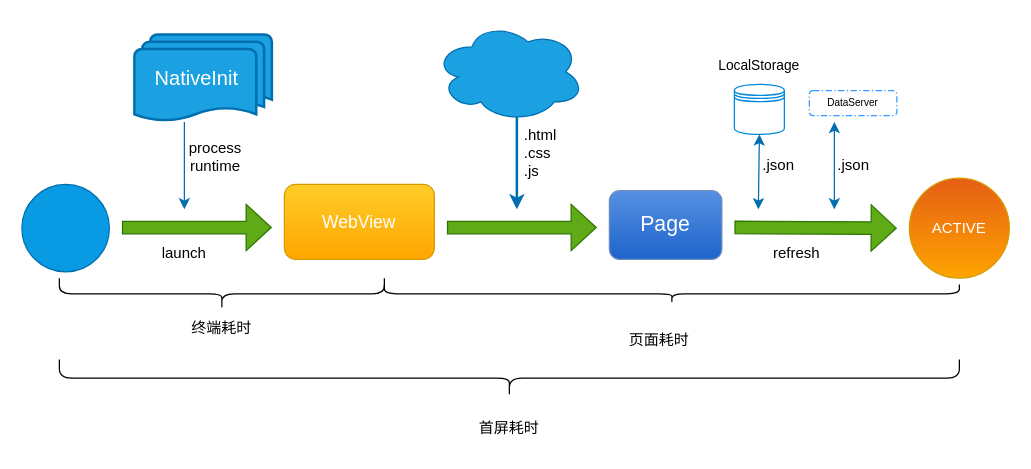
Image size: 1031x469. Some labels were removed from this diagram. The shapes that lost their labels are listed below. From the top down, each one's centre as x and y in pixels, then its label:
At (508,71): "CDN".
At (65,227): "click".
